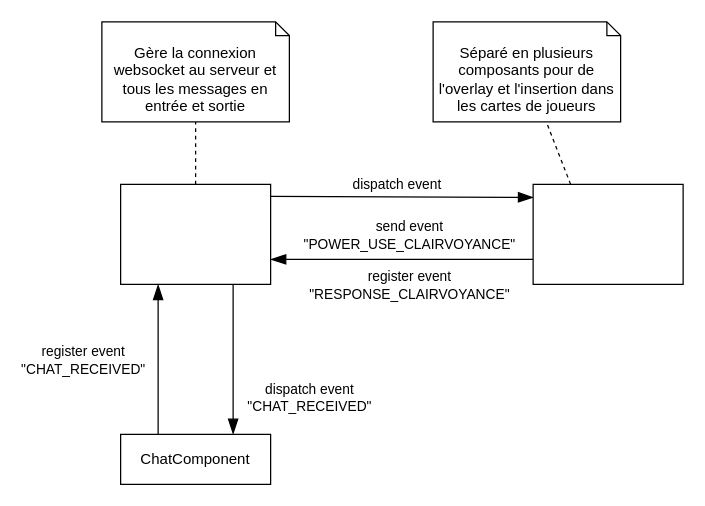
Image size: 705x506. Some labels were removed from this diagram. Here are the shapes that lost their labels. From the top down, the centre of each, then its label:
the point at 195,233: GameContext
the point at 607,233: PowerClairvoyance
